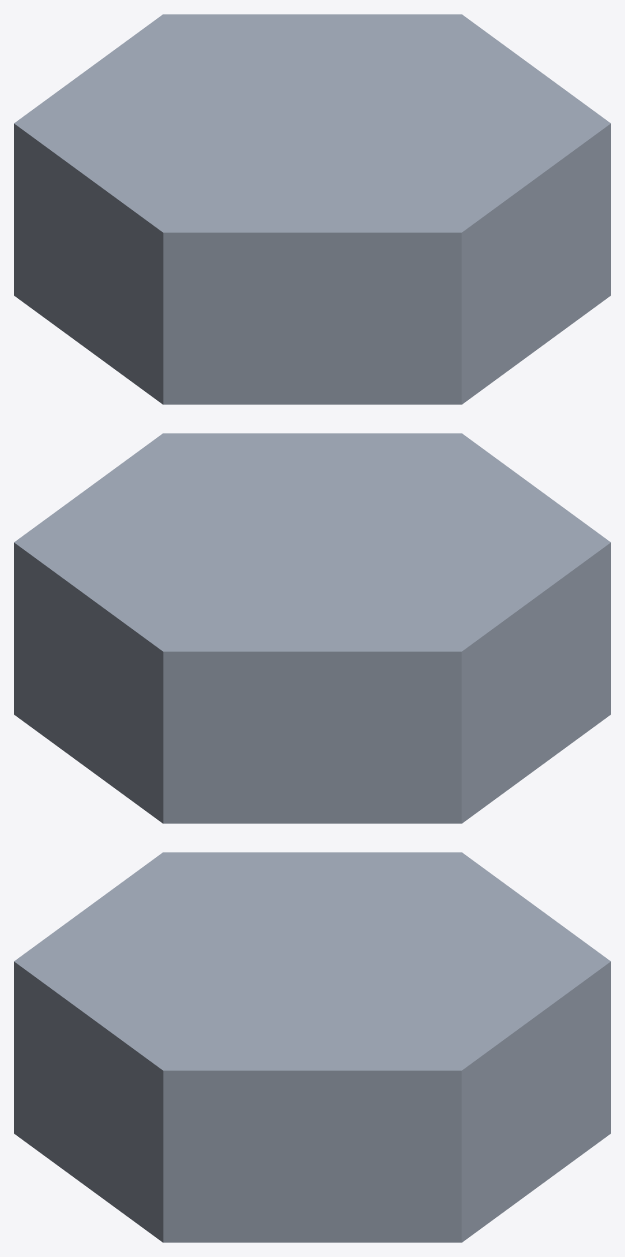
File: metal_nut.glb
The picture shows the model from 3 angles, top to bottom: view 1: azimuth 30°, elevation 25°; view 2: azimuth 150°, elevation 25°; view 3: azimuth 270°, elevation 25°; orthographic projection.
Visible parts, largest first — view 1: metal_nut; view 2: metal_nut; view 3: metal_nut.
Part boxes in pixels (left/top/right/bottom): metal_nut: left=14, top=14, right=610, bottom=404; metal_nut: left=14, top=433, right=610, bottom=823; metal_nut: left=14, top=852, right=610, bottom=1242.
Size of the model in its own units: 0.1905 by 0.07 by 0.22.
